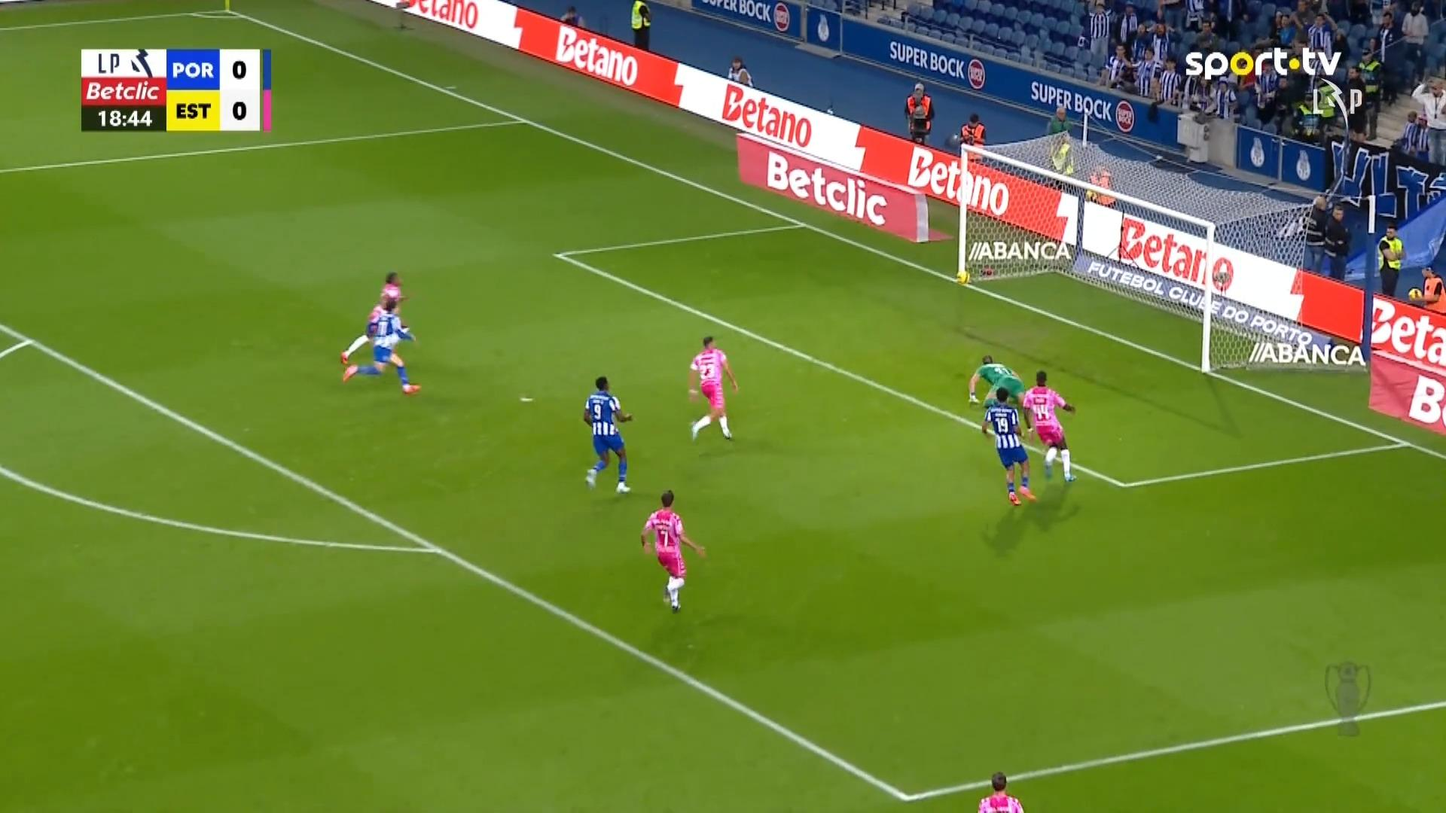ball: (957, 271, 970, 284), (1288, 56, 1300, 69)
player: (340, 286, 421, 394), (639, 489, 706, 612), (981, 385, 1036, 505), (581, 375, 634, 493), (1022, 369, 1077, 482), (687, 334, 739, 442), (967, 354, 1029, 429)
referee: (978, 771, 1023, 811)
